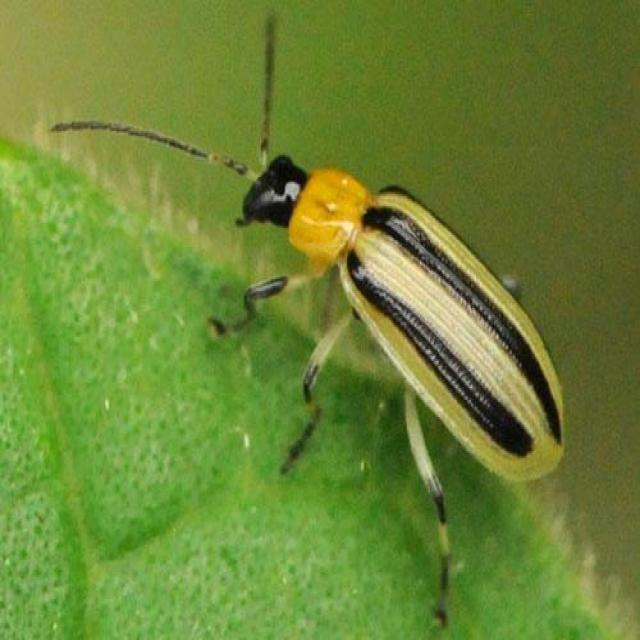trips: (52, 17, 566, 628)
